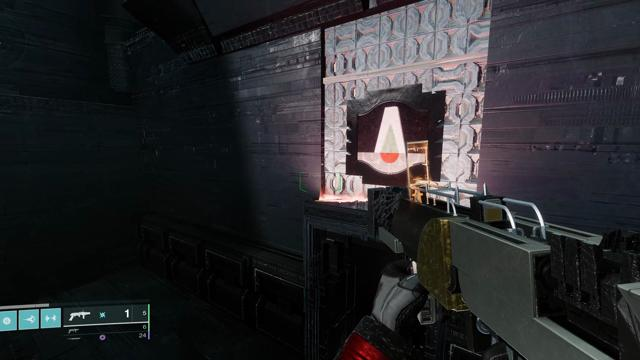enter: (357, 100, 429, 174)
